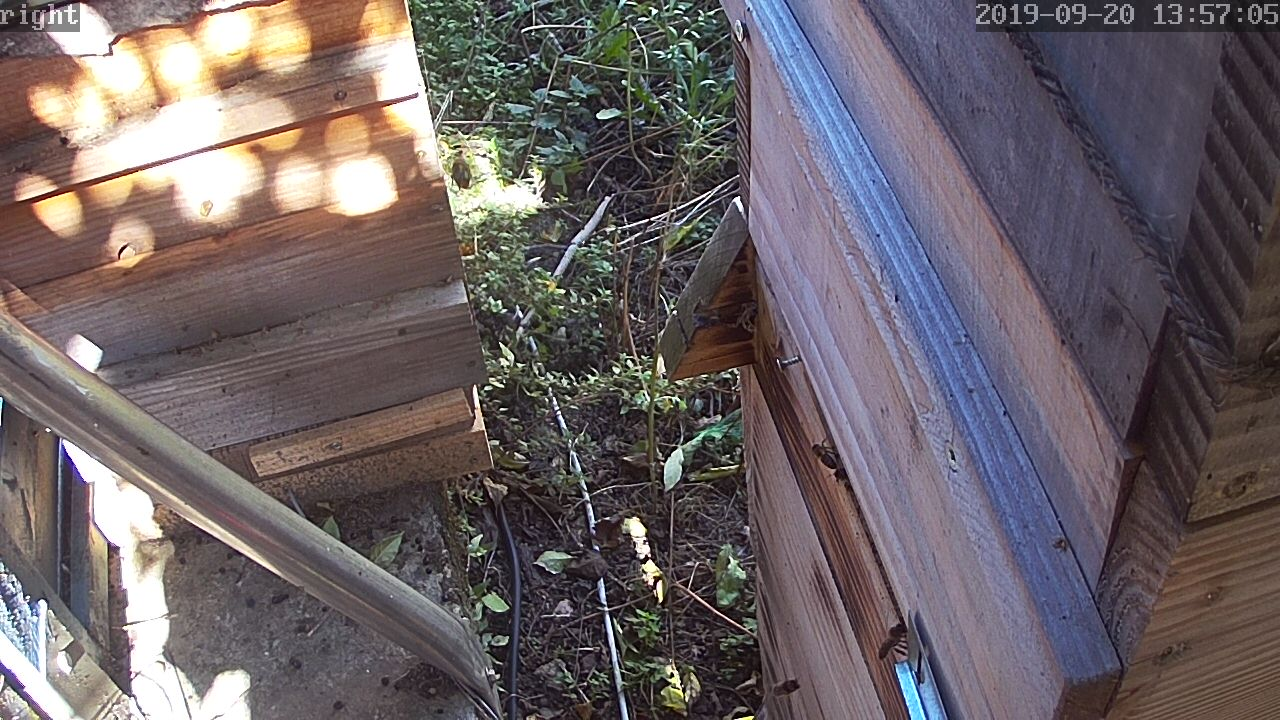bee: (873, 613, 912, 673), (800, 435, 842, 474), (763, 672, 802, 700)
